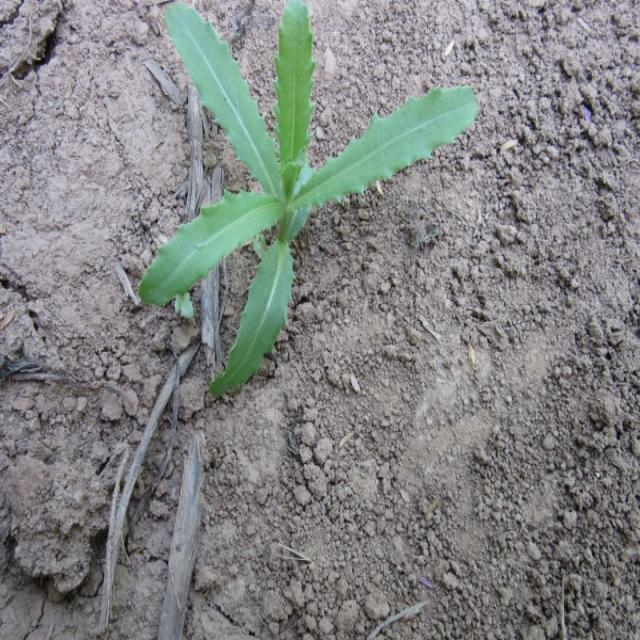field_thistle: (143, 5, 508, 372)
